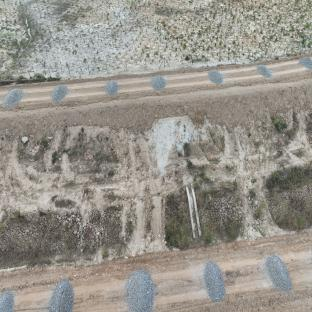rock_toe: (0, 205, 131, 262), (198, 179, 311, 235)
slope_drain: (186, 186, 203, 239)
